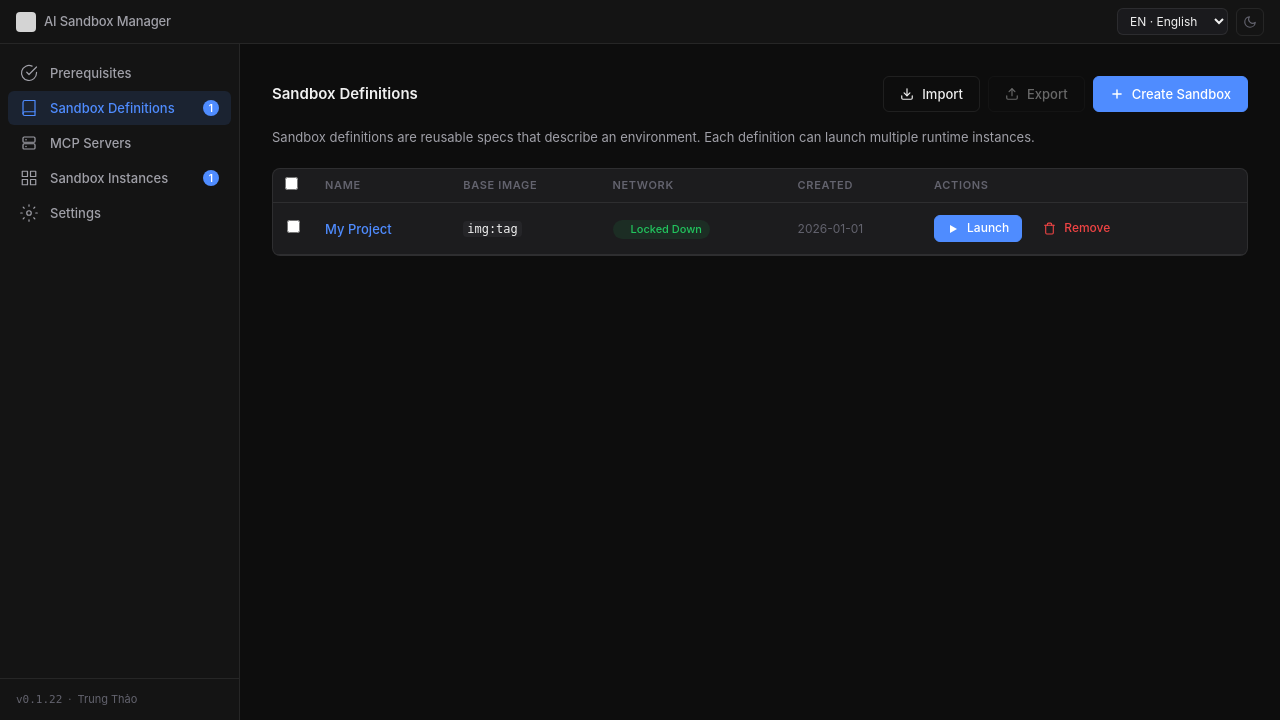
Test case: App launch & lifecycle wiring › surfaces the error message when launch fails
Click the button "Launch".
click(978, 229)  # box x1=934 y1=215 x2=1022 y2=242
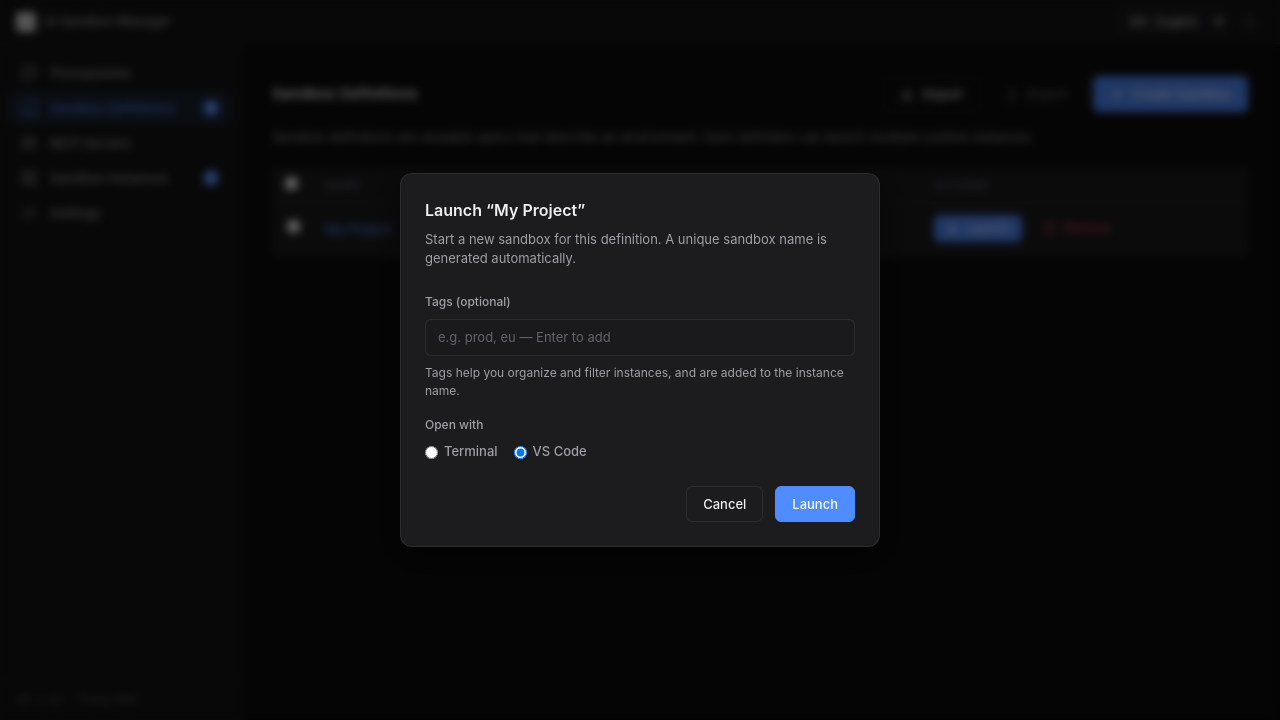
Click the button "Launch".
click(815, 504)  # box x1=775 y1=486 x2=855 y2=522
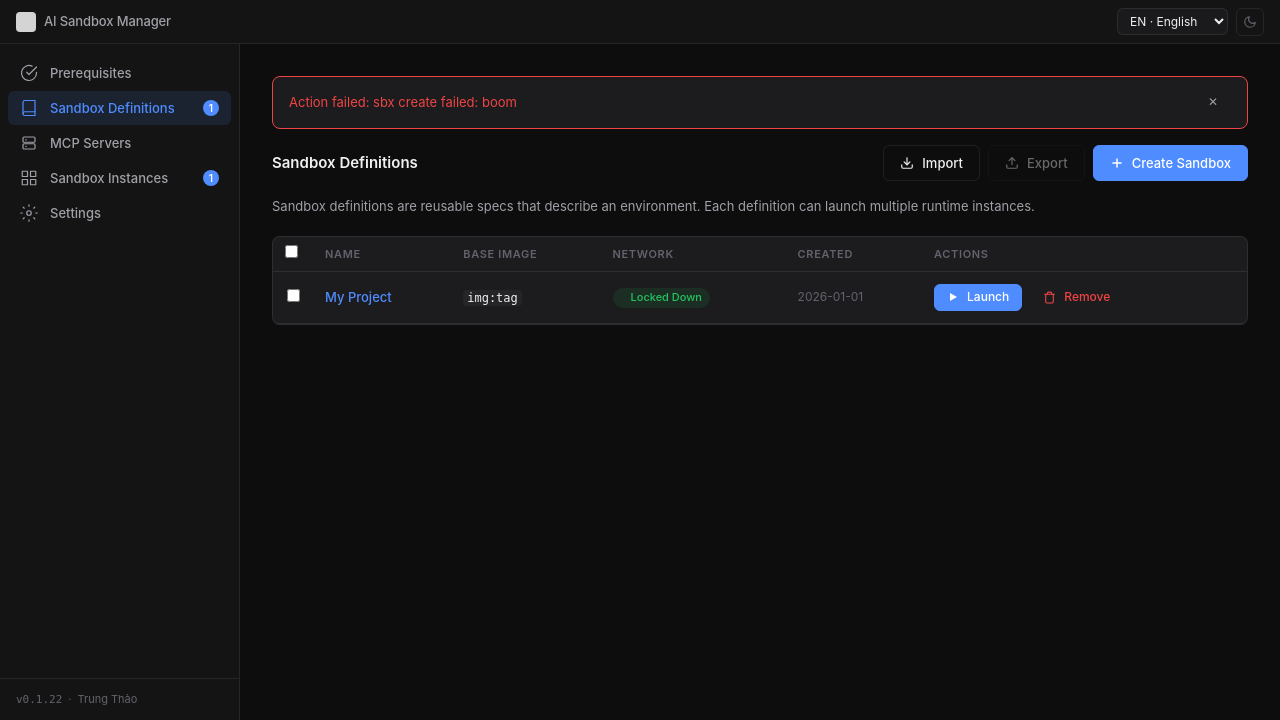
Now the text "Action failed: sbx create failed: boom" is shown, box x1=289 y1=93 x2=517 y2=112
